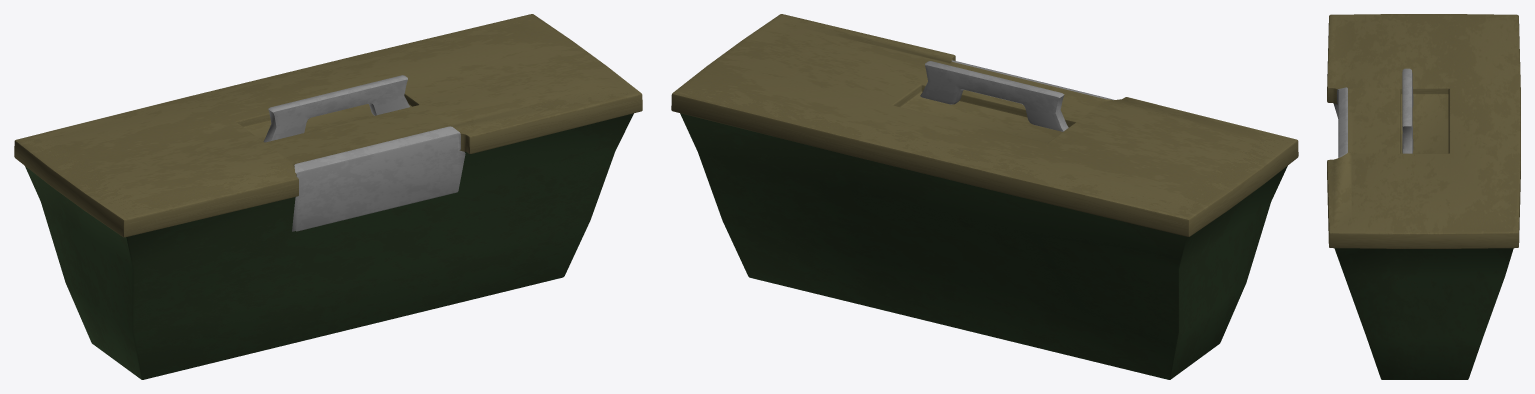
The model's file is tool box art.fbx.
3 views of the same model, side by side, from view 1: azimuth 30°, elevation 25°; view 2: azimuth 150°, elevation 25°; view 3: azimuth 270°, elevation 25° (orthographic). The views are drawn at different scales.
Visible parts, largest first — view 1: tool box, tool box top, tool box handles; view 2: tool box, tool box top, tool box handles; view 3: tool box top, tool box, tool box handles.
Boxes of the visible parts, x1=… form: tool box: x1=25, y1=113, x2=633, y2=379; tool box top: x1=14, y1=14, x2=642, y2=237; tool box handles: x1=263, y1=75, x2=465, y2=231; tool box: x1=680, y1=113, x2=1287, y2=379; tool box top: x1=671, y1=14, x2=1298, y2=236; tool box handles: x1=920, y1=60, x2=1113, y2=131; tool box top: x1=1327, y1=14, x2=1520, y2=248; tool box: x1=1333, y1=103, x2=1513, y2=379; tool box handles: x1=1334, y1=68, x2=1413, y2=157.
Bounding box in the file's own units: 73.17 × 30.18 × 27.21.
